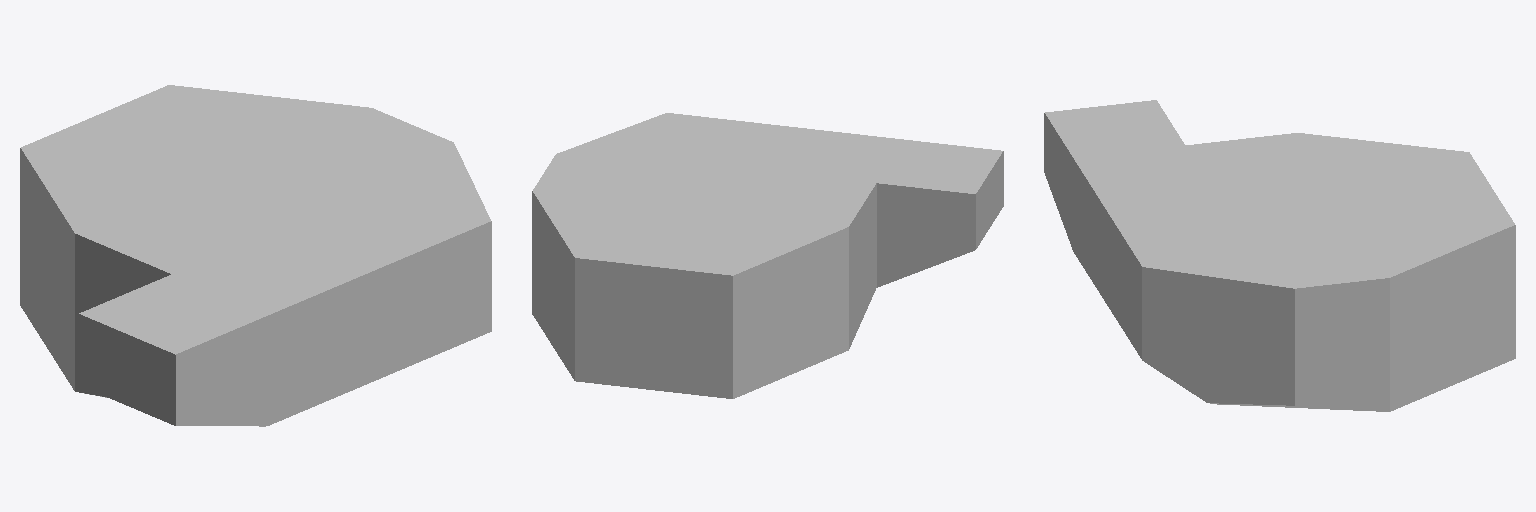
The robot description file, URDF, robot "TC3_Igus":
<?xml version="1.0" encoding="utf-8"?>
<robot name="TC3_Igus">
  <link name="toolchanger_base">
    <visual>
      <geometry>
        <mesh filename="package://TC3_Igus/meshes/visual/L0_visual_0.stl" scale="0.001 0.001 0.001"/>
      </geometry>
      <material name="Material">
        <color rgba="0.8 0.8 0.8 1.0"/>
      </material>
    </visual>
    <visual>
      <geometry>
        <mesh filename="package://TC3_Igus/meshes/visual/L0_visual_1.stl" scale="0.001 0.001 0.001"/>
      </geometry>
      <material name="Material">
        <color rgba="0.8 0.8 0.8 1.0"/>
      </material>
    </visual>
    <collision>
      <geometry>
        <mesh filename="package://TC3_Igus/meshes/collision/L0_collision_0.stl" scale="0.001 0.001 0.001"/>
      </geometry>
    </collision>
    <collision>
      <geometry>
        <mesh filename="package://TC3_Igus/meshes/collision/L0_collision_1.stl" scale="0.001 0.001 0.001"/>
      </geometry>
    </collision>
  </link>
</robot>

--- Render facts (derived) ---
3 views of the same robot in one strip: view 1: azimuth 30°, elevation 25°; view 2: azimuth 150°, elevation 25°; view 3: azimuth 270°, elevation 25° (orthographic).
Model TC3_Igus with 1 links and 0 joints (none), rooted at toolchanger_base, posed all joints at 0.
Visible links, largest first — view 1: toolchanger_base; view 2: toolchanger_base; view 3: toolchanger_base.
Link boxes in pixels (left/top/right/bottom): toolchanger_base: left=20, top=85, right=491, bottom=426; toolchanger_base: left=532, top=113, right=1003, bottom=398; toolchanger_base: left=1044, top=100, right=1515, bottom=411.
Size in the robot's own frame: 0.2003 by 0.2112 by 0.0663 metres.
Meshes: 2 distinct files referenced, 2 mesh visuals loaded (2 binary STL).